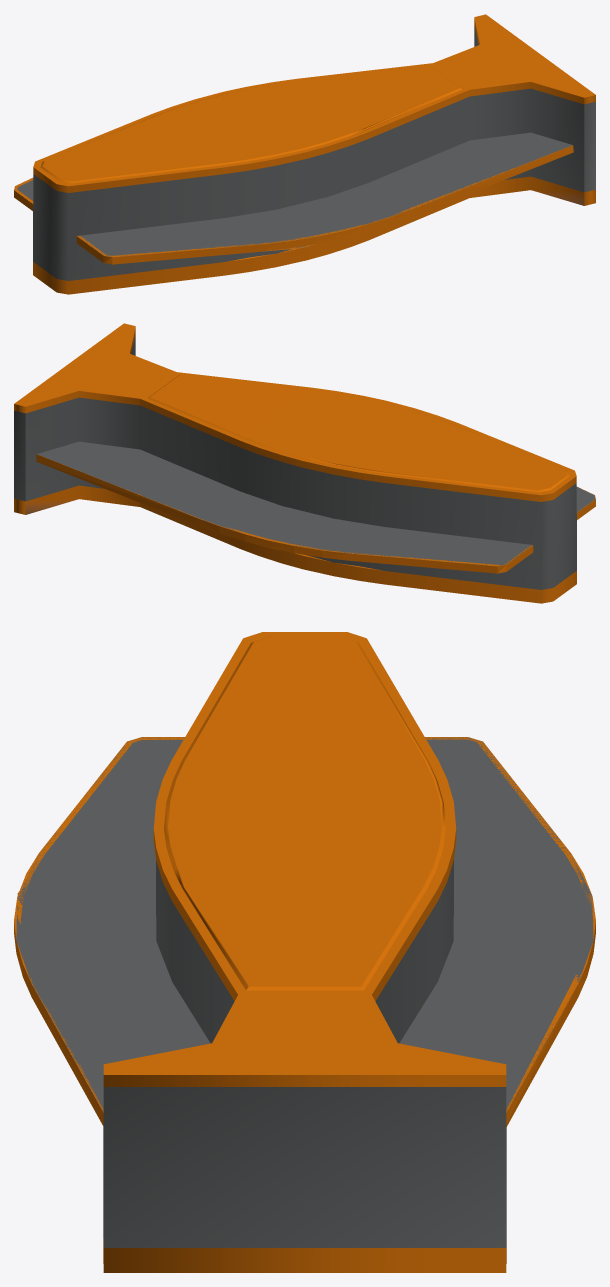
The model's file is claw_guide2l.fbx.
3 views of the same model, one above another, from view 1: azimuth 30°, elevation 25°; view 2: azimuth 150°, elevation 25°; view 3: azimuth 270°, elevation 25° (orthographic). The views are drawn at different scales.
Visible parts, largest first — view 1: claw_guide2l_col, claw_guide2l_LOD0; view 2: claw_guide2l_col, claw_guide2l_LOD0; view 3: claw_guide2l_LOD0, claw_guide2l_col.
Part boxes in pixels (bbox=[...]): claw_guide2l_col: bbox=[14, 14, 595, 280]; claw_guide2l_LOD0: bbox=[14, 14, 595, 294]; claw_guide2l_col: bbox=[14, 323, 595, 589]; claw_guide2l_LOD0: bbox=[14, 323, 595, 603]; claw_guide2l_LOD0: bbox=[14, 632, 595, 1272]; claw_guide2l_col: bbox=[16, 632, 593, 1247].
Size of what is drawn, in the model's own units: 144 by 30.39 by 80.
